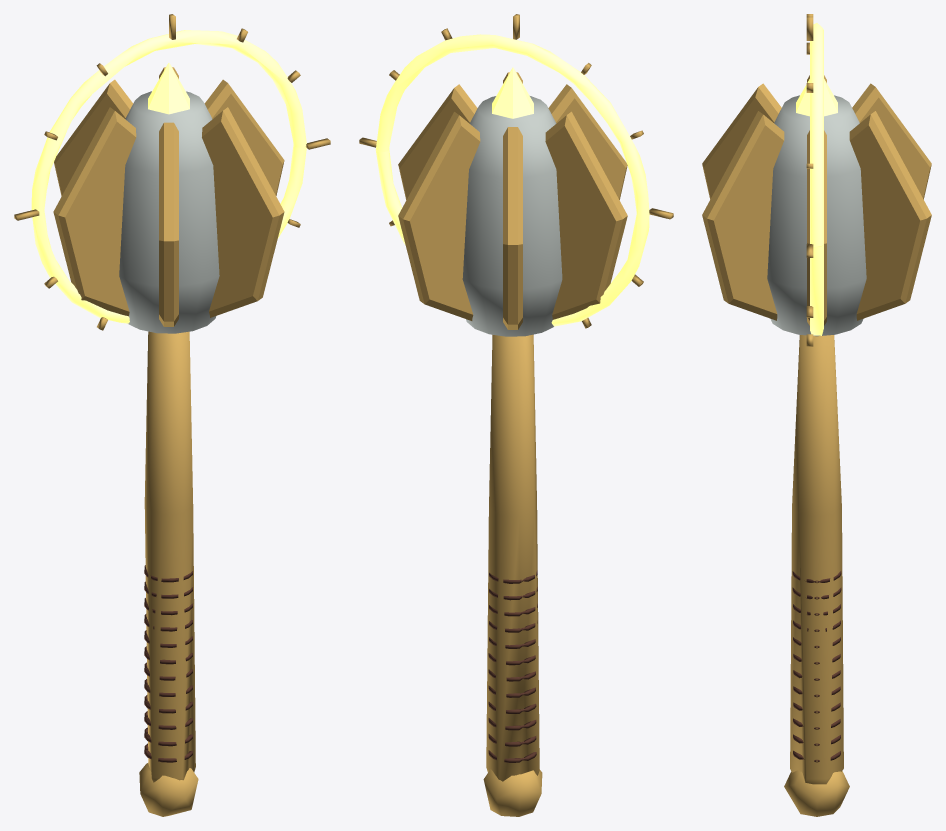
The model's file is cleric-mace-legendary-low.glb.
The picture shows the model from 3 angles, left to right: view 1: azimuth 30°, elevation 25°; view 2: azimuth 150°, elevation 25°; view 3: azimuth 270°, elevation 25°; orthographic projection.
Parts seen in each view (by area): view 1: cleric-mace__legendary; view 2: cleric-mace__legendary; view 3: cleric-mace__legendary.
Part boxes in pixels (x1,y1,x2,y2): cleric-mace__legendary: [14, 14, 330, 816]; cleric-mace__legendary: [359, 14, 673, 816]; cleric-mace__legendary: [702, 14, 931, 816].
Size of the model in its own units: 0.36 by 0.882 by 0.2302.
